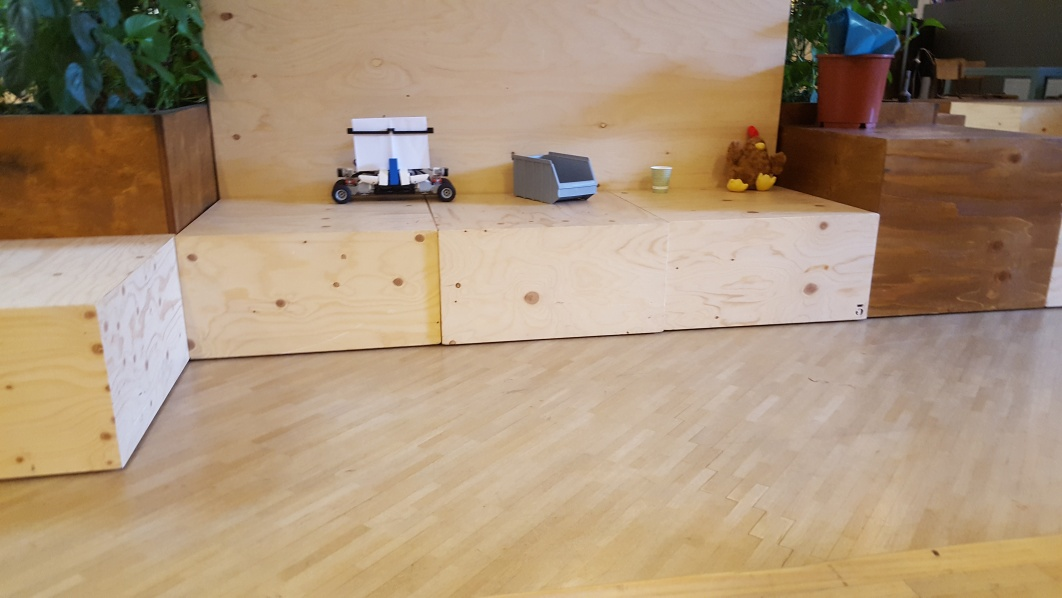beam: (387, 155, 399, 187)
chicken: (724, 125, 788, 196)
cup: (649, 165, 673, 193)
tray: (507, 150, 599, 204)
